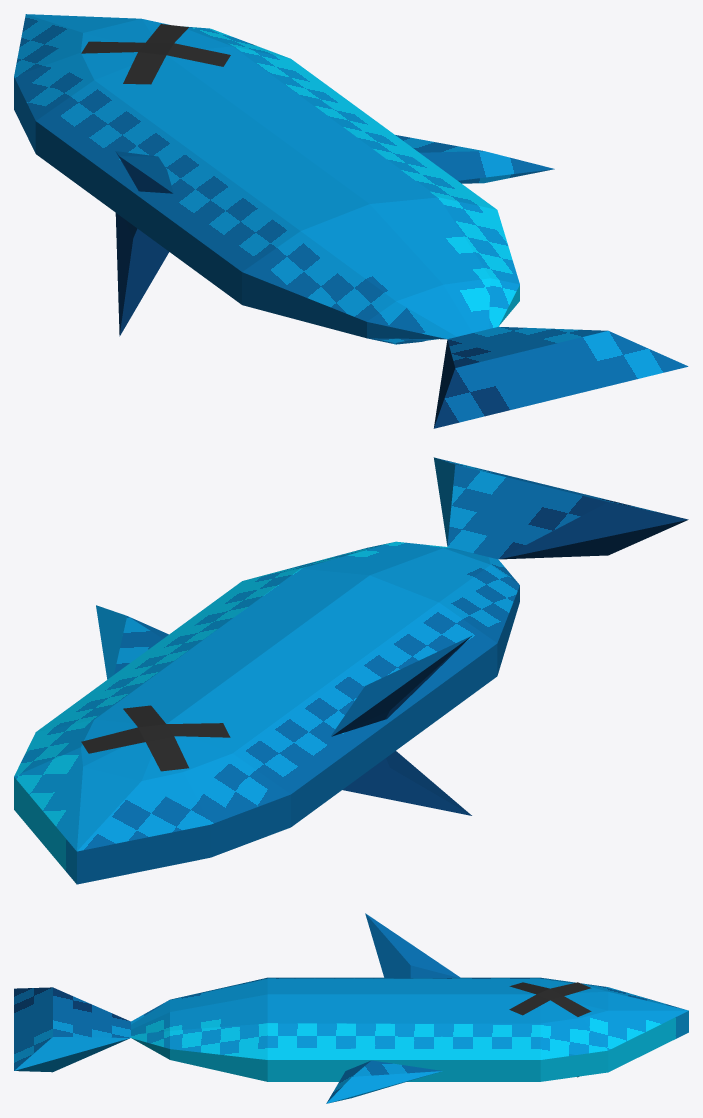
The model's file is fish.fbx.
3 views of the same model, one above another, from view 1: azimuth 30°, elevation 25°; view 2: azimuth 150°, elevation 25°; view 3: azimuth 270°, elevation 25° (orthographic). The views are drawn at different scales.
Parts seen in each view (by area): view 1: sphere; view 2: sphere; view 3: sphere.
Part boxes in pixels (x1,y1,x2,y2): sphere: [14, 14, 688, 428]; sphere: [14, 457, 688, 884]; sphere: [14, 913, 688, 1103].
Size of the model in its own units: 99.47 by 42.29 by 216.
Materials: 1 (1 with a texture image).
